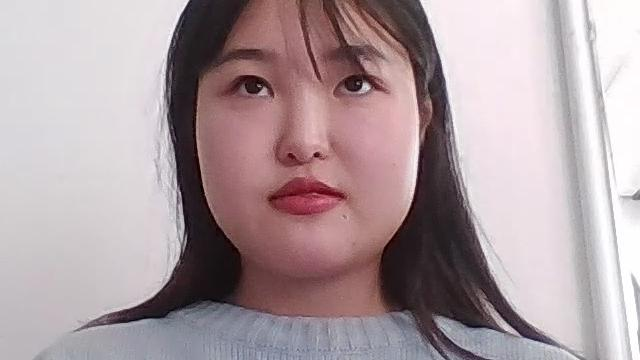eye: (245, 77, 263, 93), (346, 75, 362, 91)
iris: (235, 75, 275, 97), (334, 75, 374, 95)
